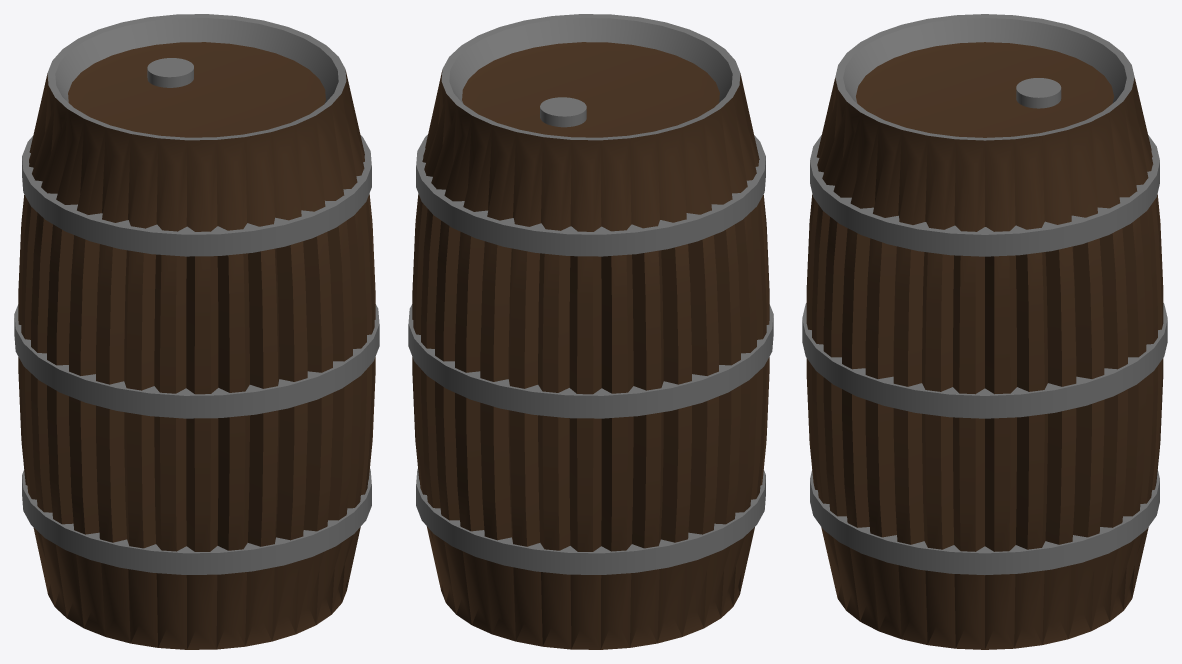
The model's file is barrel.fbx.
3 views of the same model, side by side, from view 1: azimuth 30°, elevation 25°; view 2: azimuth 150°, elevation 25°; view 3: azimuth 270°, elevation 25° (orthographic).
Parts seen in each view (by area): view 1: barrel; view 2: barrel; view 3: barrel.
Boxes of the visible parts, <box> form: barrel: <box>14,14,379,649</box>; barrel: <box>408,14,773,649</box>; barrel: <box>802,14,1167,649</box>.
Size of the model in its own units: 188 by 288 by 188.
